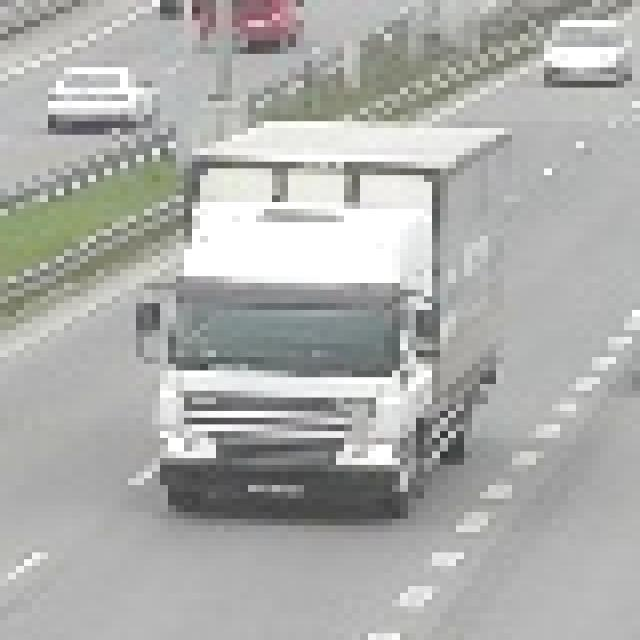truck: (129, 109, 513, 513)
